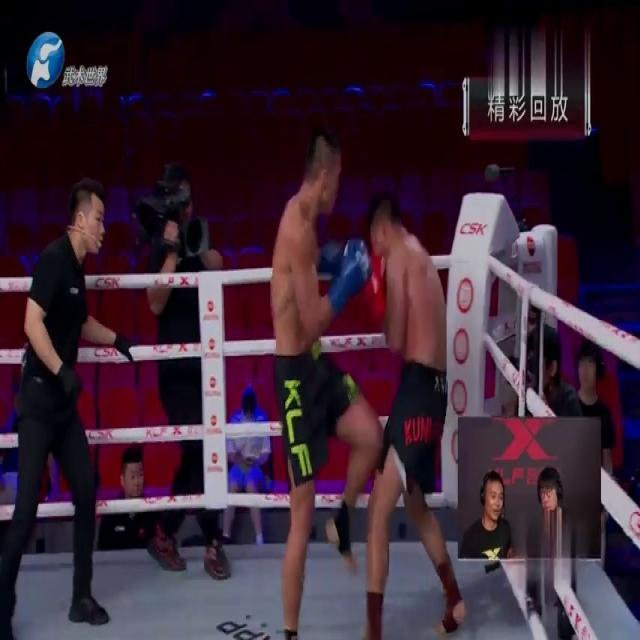fight: (256, 126, 457, 638)
non-fight: (0, 171, 125, 637)
